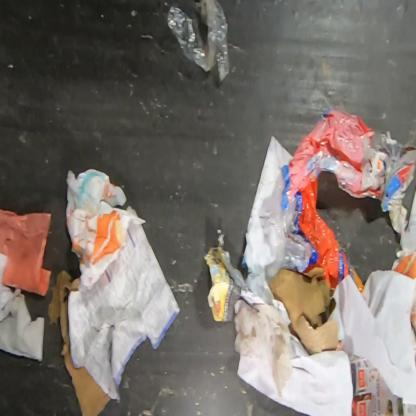cardboard: (45, 269, 112, 415), (268, 266, 340, 356)
soft_plastic: (272, 107, 385, 294), (163, 0, 232, 81)
